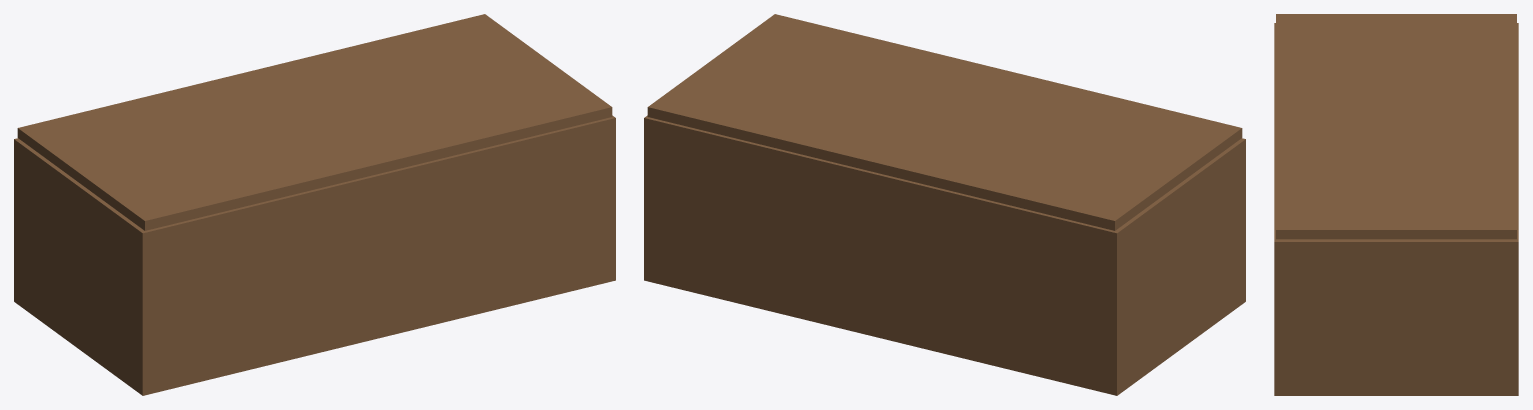
Rendered from Chest.fbx.
The picture shows the model from 3 angles, left to right: view 1: azimuth 30°, elevation 25°; view 2: azimuth 150°, elevation 25°; view 3: azimuth 270°, elevation 25°; orthographic projection. The views are drawn at different scales.
Visible parts, largest first — view 1: Cube.002, Cube.005; view 2: Cube.002, Cube.005; view 3: Cube.005, Cube.002.
Boxes of the visible parts, x1,y1,x2,y2 form: Cube.002: [14, 115, 615, 395]; Cube.005: [17, 14, 612, 230]; Cube.002: [644, 115, 1245, 395]; Cube.005: [647, 14, 1242, 230]; Cube.005: [1276, 14, 1516, 239]; Cube.002: [1274, 23, 1518, 395].
Size of the model in its own units: 103 by 36.02 by 48.44.
